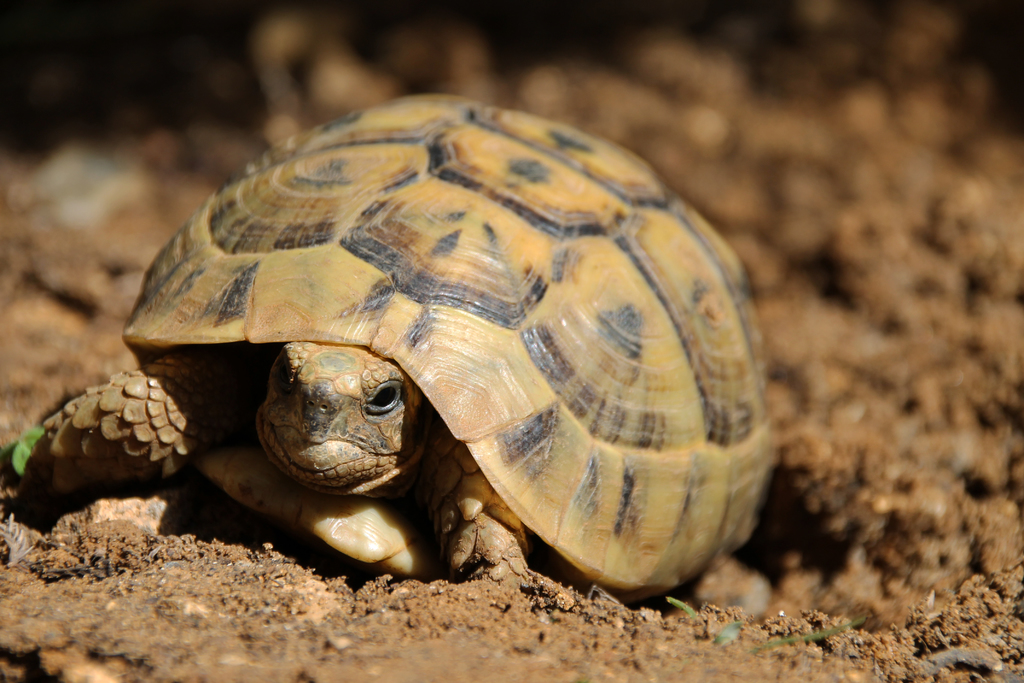Sea turtles: (15, 83, 783, 592)
